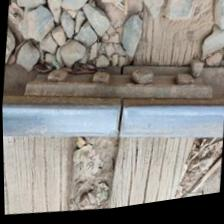person: (87, 90, 153, 159), (113, 63, 131, 85)
